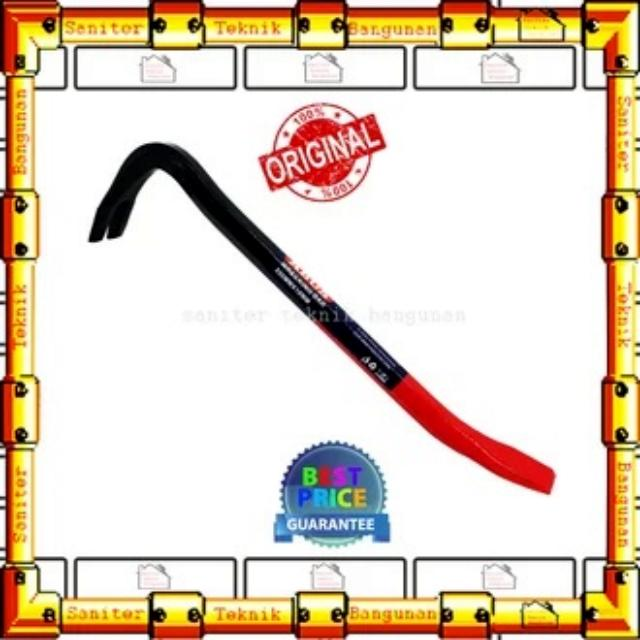crow bar: (90, 145, 556, 497)
